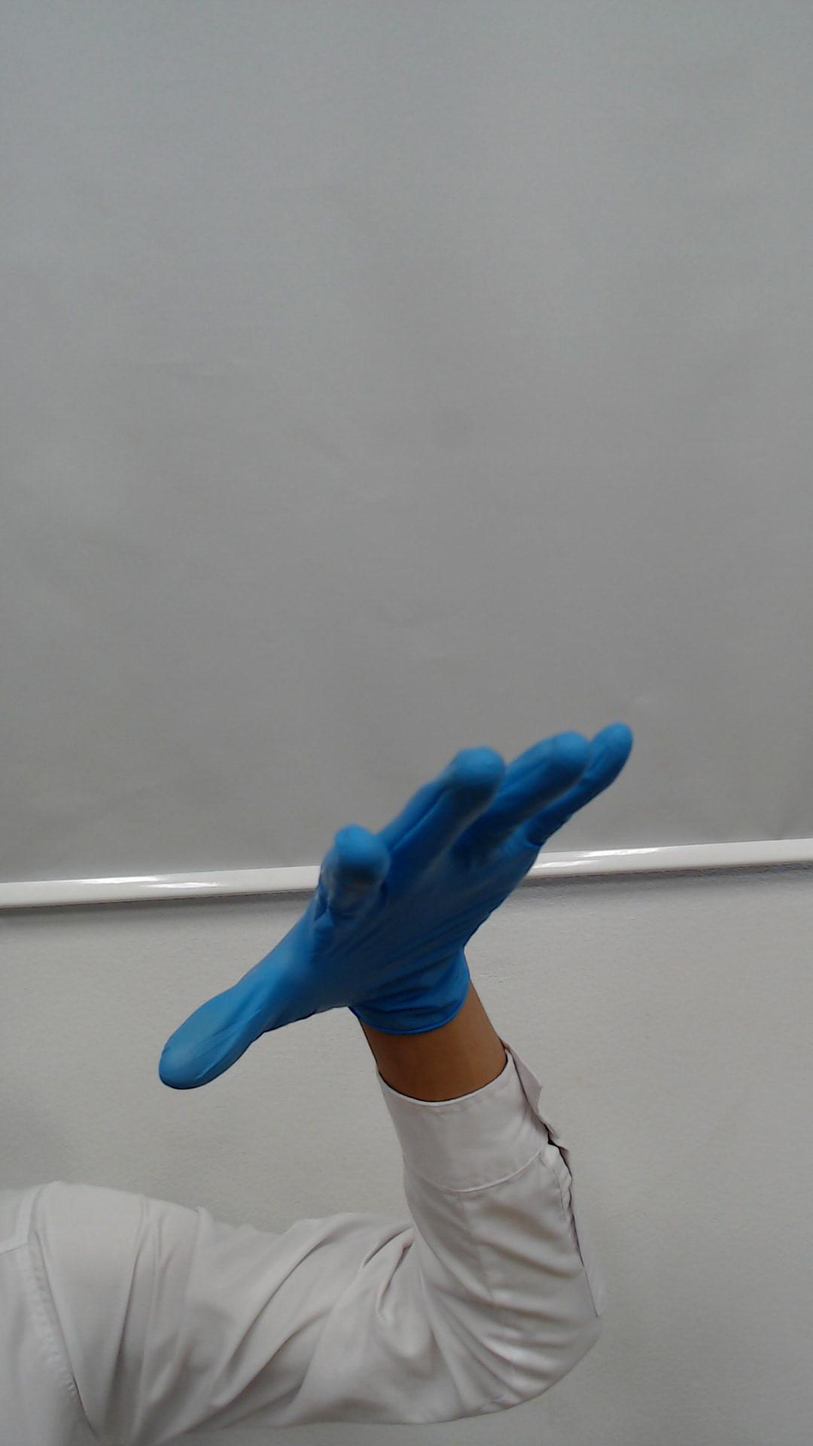gloves: (139, 653, 669, 1103)
